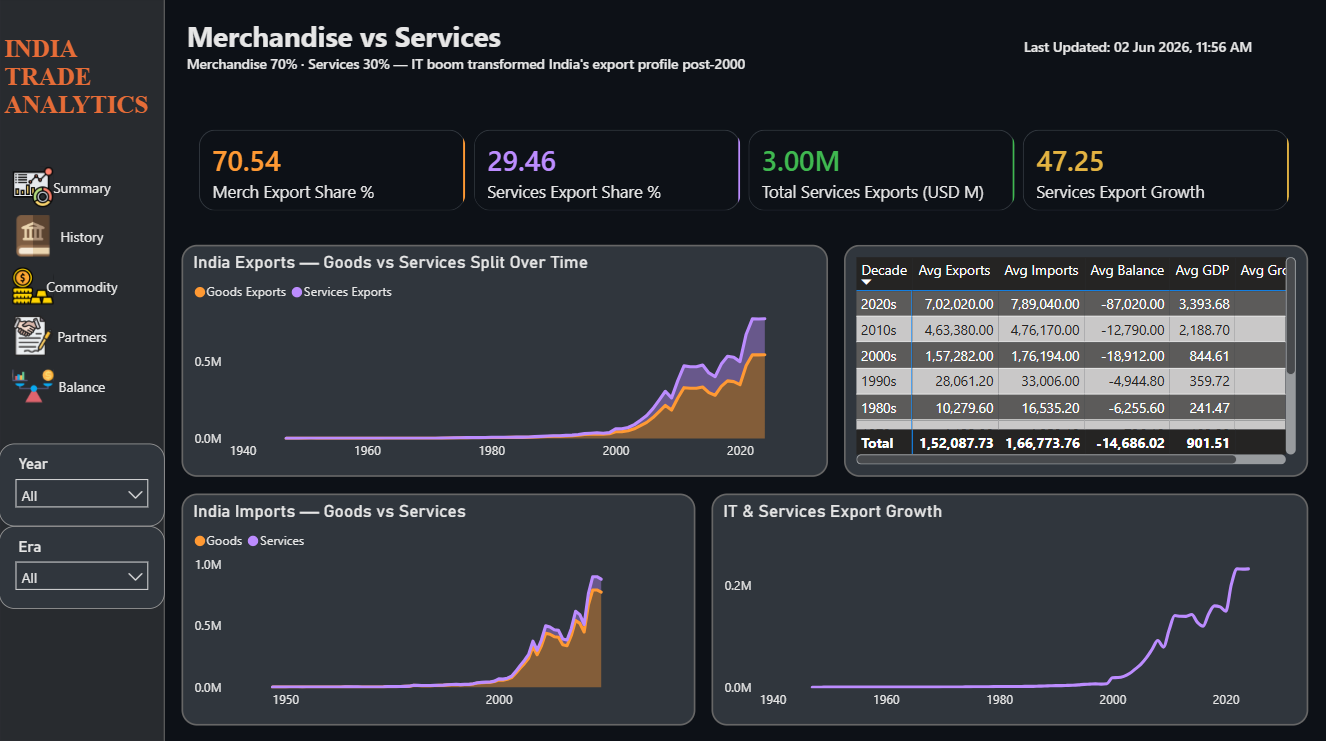

What the dashboard file says about the page in this screenshot:
{"tool":"powerbi","page":{"name":"Merchandise vs Services","canvas":[1280,720],"ordinal":5},"visuals":[{"type":"cardVisual","fields":{"Data":["MeasuresTable.Merch Export Share %","MeasuresTable.Services Export Share %","Sum(vw_TradeSummary.exports_services_usd_m)","MeasuresTable.Services Export Growth"]},"box":[176,112,1088,112],"z":0},{"type":"stackedAreaChart","title":"India Exports — Goods vs Services Split Over Time","fields":{"Category":["vw_TradeSummary.year"],"Y":["Sum(vw_TradeSummary.exports_merchandise_usd_m)","Sum(vw_TradeSummary.exports_services_usd_m)"]},"box":[176,240,624,224],"z":1000},{"type":"lineChart","title":"IT & Services Export Growth","fields":{"Category":["vw_TradeSummary.year"],"Y":["Sum(vw_TradeSummary.exports_services_usd_m)"]},"box":[688,480,576,224],"z":2000},{"type":"stackedAreaChart","title":"India Imports — Goods vs Services","fields":{"Category":["vw_TradeSummary.year"],"Y":["Sum(vw_TradeSummary.imports_merchandise_usd_m)","Sum(vw_TradeSummary.imports_services_usd_m)"]},"box":[176,480,496,224],"z":3000},{"type":"pivotTable","fields":{"Rows":["vw_DecadeSummary.decade"],"Values":["Avg(vw_DecadeSummary.avg_exports_usd_m)","Avg(vw_DecadeSummary.avg_imports_usd_m)","Avg(vw_DecadeSummary.avg_balance_usd_m)","Avg(vw_DecadeSummary.avg_gdp_usd_b)","Avg(vw_DecadeSummary.avg_export_growth_pct)"]},"box":[816,240,448,224],"z":4000},{"type":"textbox","box":[176,16,592,80],"z":5000},{"type":"shape","box":[0,0,160,720],"z":6000},{"type":"textbox","box":[0,32,160,128],"z":7000},{"type":"actionButton","box":[0,160,160,48],"z":8000},{"type":"actionButton","box":[0,208,160,48],"z":9000},{"type":"actionButton","box":[0,256,160,48],"z":10000},{"type":"actionButton","box":[0,304,160,48],"z":11000},{"type":"actionButton","box":[0,352,160,48],"z":12000},{"type":"cardVisual","fields":{"Data":["MeasuresTable.Last Refreshed"]},"box":[960,16,288,64],"z":13000},{"type":"slicer","fields":{"Values":["vw_TradeSummary.year"]},"box":[0,432,160,80],"z":13001},{"type":"slicer","fields":{"Values":["vw_TradeSummary.era"]},"box":[0,512,160,80],"z":13002}]}

Visuals, with their boxes on the page's 1280x720 design canvas (x1, y1, x2, y2). These are canvas units, not pixel positions in the 1326x741 screenshot, which may show the page scaled, cropped or inside an application window:
cardVisual - MeasuresTable.Merch Export Share % x MeasuresTable.Services Export Share %: crop(176, 112, 1264, 224)
"India Exports — Goods vs Services Split Over Time" stackedAreaChart: crop(176, 240, 800, 464)
"IT & Services Export Growth" lineChart: crop(688, 480, 1264, 704)
"India Imports — Goods vs Services" stackedAreaChart: crop(176, 480, 672, 704)
pivotTable - vw_DecadeSummary.decade x Avg(vw_DecadeSummary.avg_exports_usd_m): crop(816, 240, 1264, 464)
textbox: crop(176, 16, 768, 96)
shape: crop(0, 0, 160, 720)
textbox: crop(0, 32, 160, 160)
actionButton: crop(0, 160, 160, 208)
actionButton: crop(0, 208, 160, 256)
actionButton: crop(0, 256, 160, 304)
actionButton: crop(0, 304, 160, 352)
actionButton: crop(0, 352, 160, 400)
cardVisual - MeasuresTable.Last Refreshed: crop(960, 16, 1248, 80)
slicer - vw_TradeSummary.year: crop(0, 432, 160, 512)
slicer - vw_TradeSummary.era: crop(0, 512, 160, 592)
